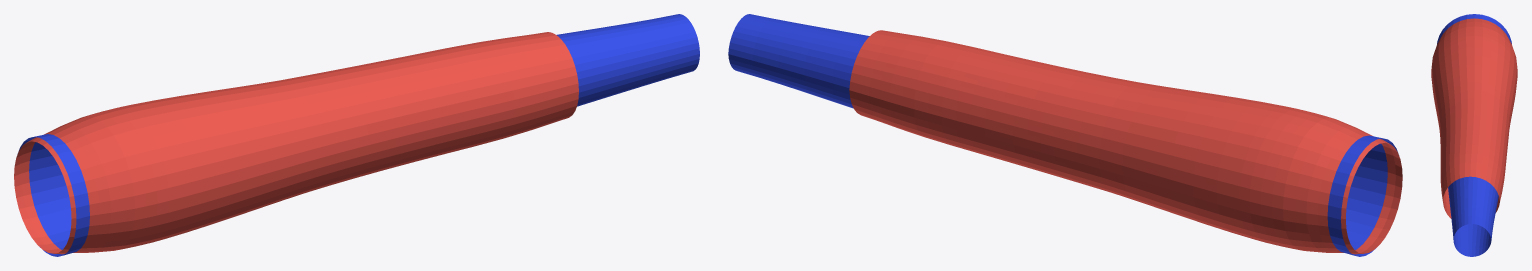
The model's file is fire2.gltf.
3 views of the same model, side by side, from view 1: azimuth 30°, elevation 25°; view 2: azimuth 150°, elevation 25°; view 3: azimuth 270°, elevation 25° (orthographic). The views are drawn at different scales.
Visible parts, largest first — view 1: 外层火, 内层火; view 2: 外层火, 内层火; view 3: 外层火, 内层火.
Boxes of the visible parts, x1,y1,x2,y2 form: 外层火: (14,32,578,254); 内层火: (17,14,699,256); 外层火: (849,30,1402,254); 内层火: (728,14,1399,256); 外层火: (1431,18,1517,218); 内层火: (1437,14,1511,256).
Size of the model in its own units: 8.02 by 1.52 by 1.52.
